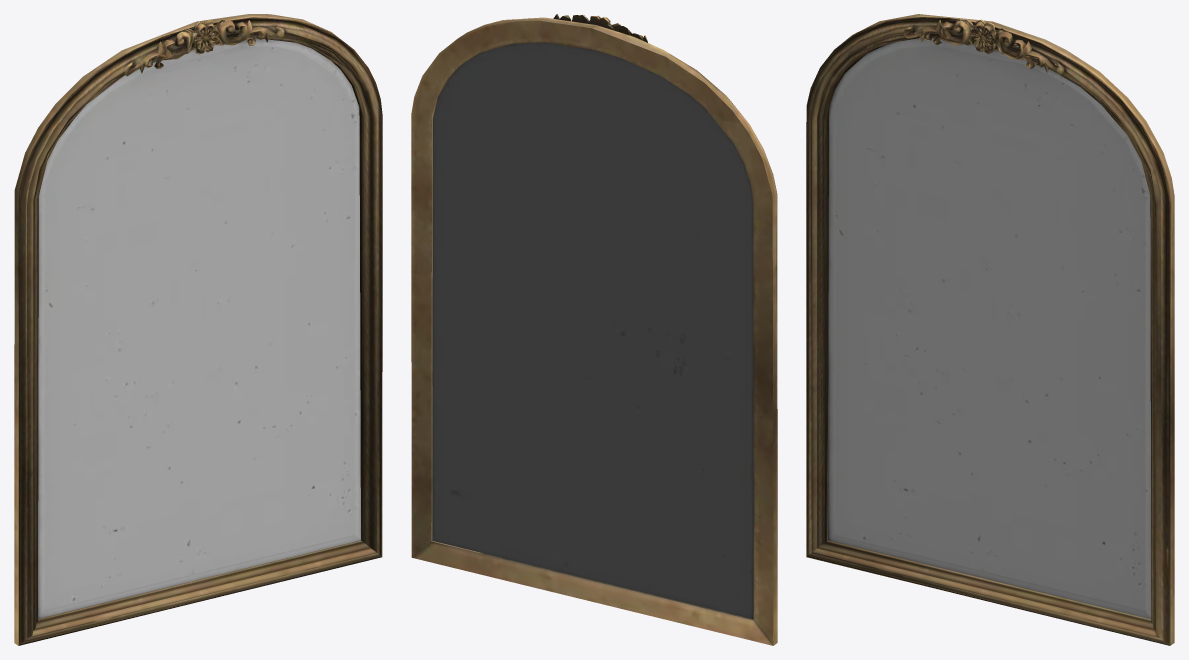
File: mirror.glb
3 renders of one model, left to right at view 1: azimuth 30°, elevation 25°; view 2: azimuth 150°, elevation 25°; view 3: azimuth 330°, elevation 25°, orthographic.
Visible parts, largest first — view 1: mirror; view 2: mirror; view 3: mirror.
Boxes of the visible parts, x1=… form: mirror: x1=14, y1=14, x2=382, y2=645; mirror: x1=411, y1=14, x2=777, y2=645; mirror: x1=806, y1=14, x2=1174, y2=645.
Bounding box in the file's own units: 0.486 × 0.7437 × 0.026.
Materials: 1 (1 with a texture image).
